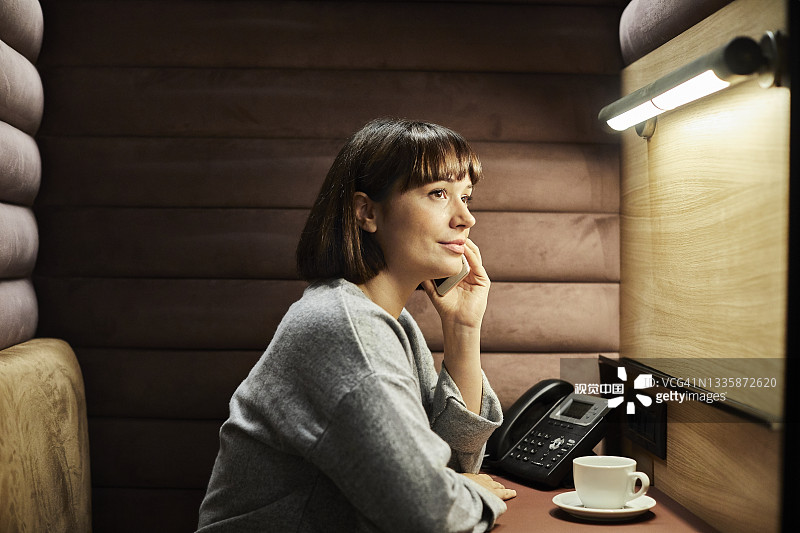calling: (400, 222, 525, 339)
